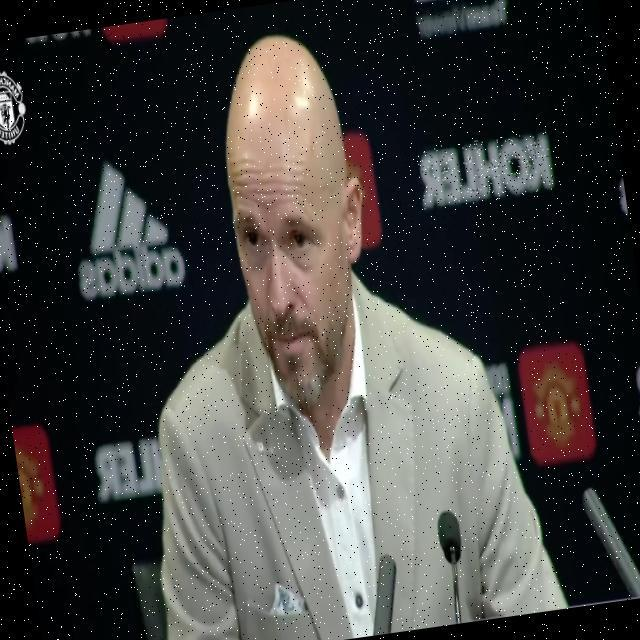Adidas: (64, 155, 188, 301)
Kohler: (416, 131, 557, 211)
TeamViewer: (411, 0, 509, 36)
